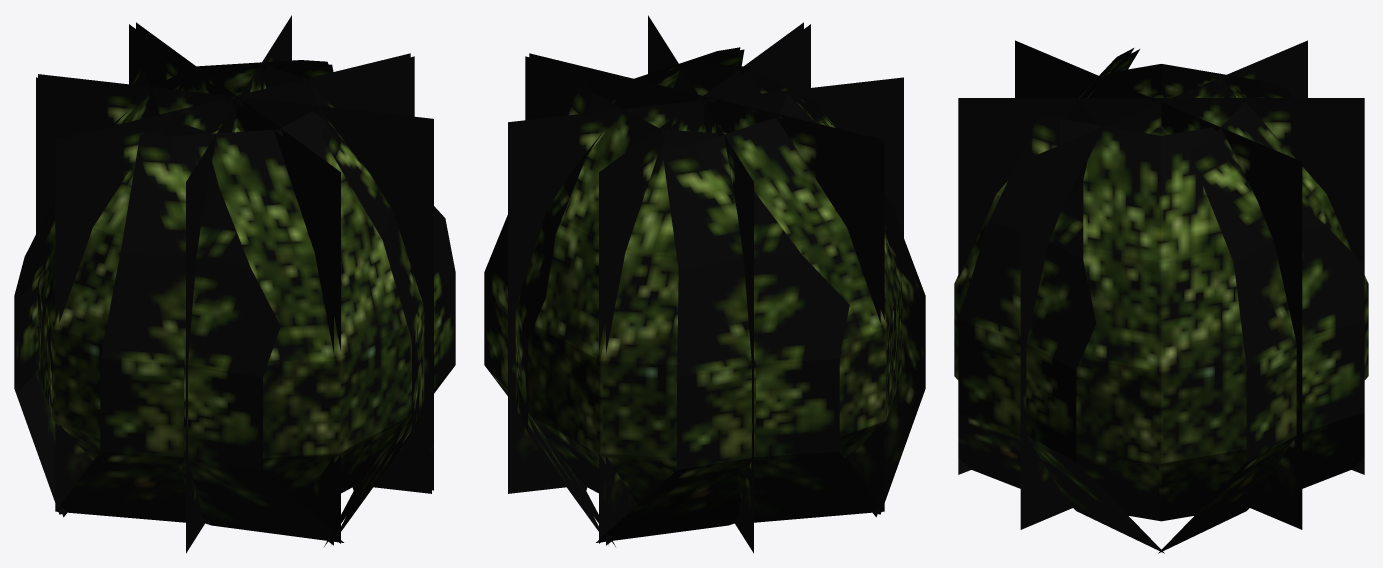
Rendered from bush03.gltf.
3 renders of one model, left to right at view 1: azimuth 30°, elevation 25°; view 2: azimuth 150°, elevation 25°; view 3: azimuth 270°, elevation 25°, orthographic.
Parts seen in each view (by area): view 1: bush3; view 2: bush3; view 3: bush3.
Boxes of the visible parts, box(x1,y1,x2,y2) form: bush3: box(14, 15, 455, 553); bush3: box(484, 15, 925, 553); bush3: box(954, 40, 1368, 553).
Size of the model in its own units: 1.02 by 1 by 1.02.
Materials: 1 (1 with a texture image).
